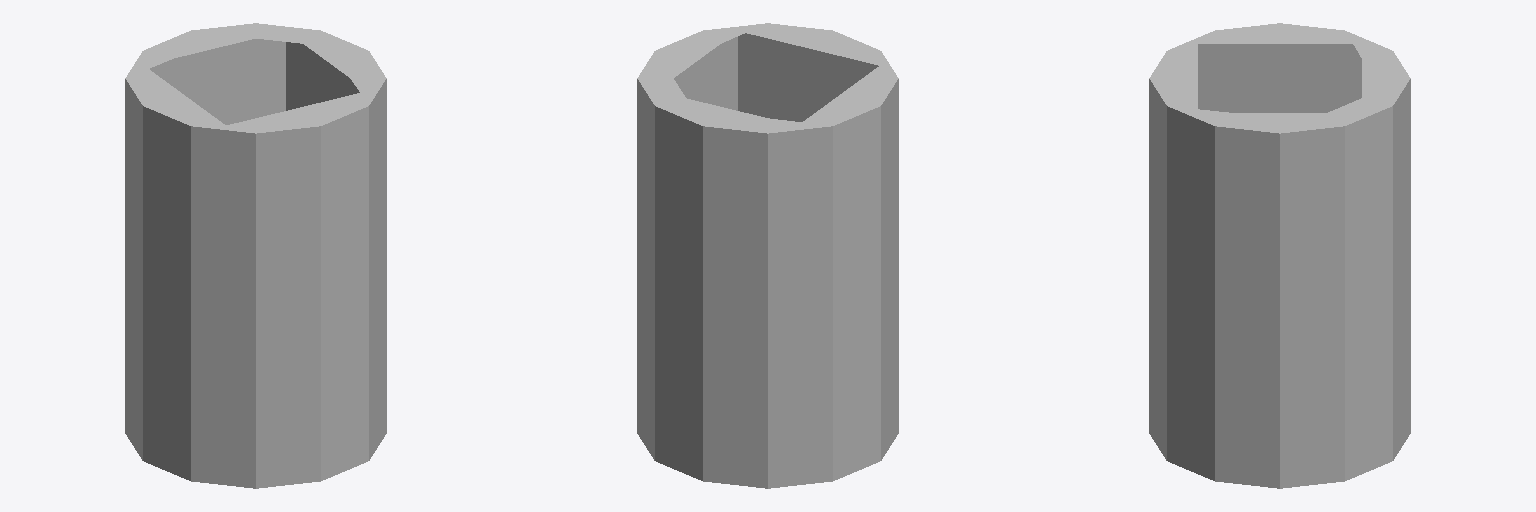
The model's file is shippod.obj.
3 views of the same model, side by side, from view 1: azimuth 30°, elevation 25°; view 2: azimuth 150°, elevation 25°; view 3: azimuth 270°, elevation 25° (orthographic).
Visible parts, largest first — view 1: g2_collision; view 2: g2_collision; view 3: g2_collision.
Boxes of the visible parts, <box> form: g2_collision: <box>125,23,386,488</box>; g2_collision: <box>637,23,898,488</box>; g2_collision: <box>1149,23,1410,488</box>.
Size of the model in its own units: 4 by 6 by 4.